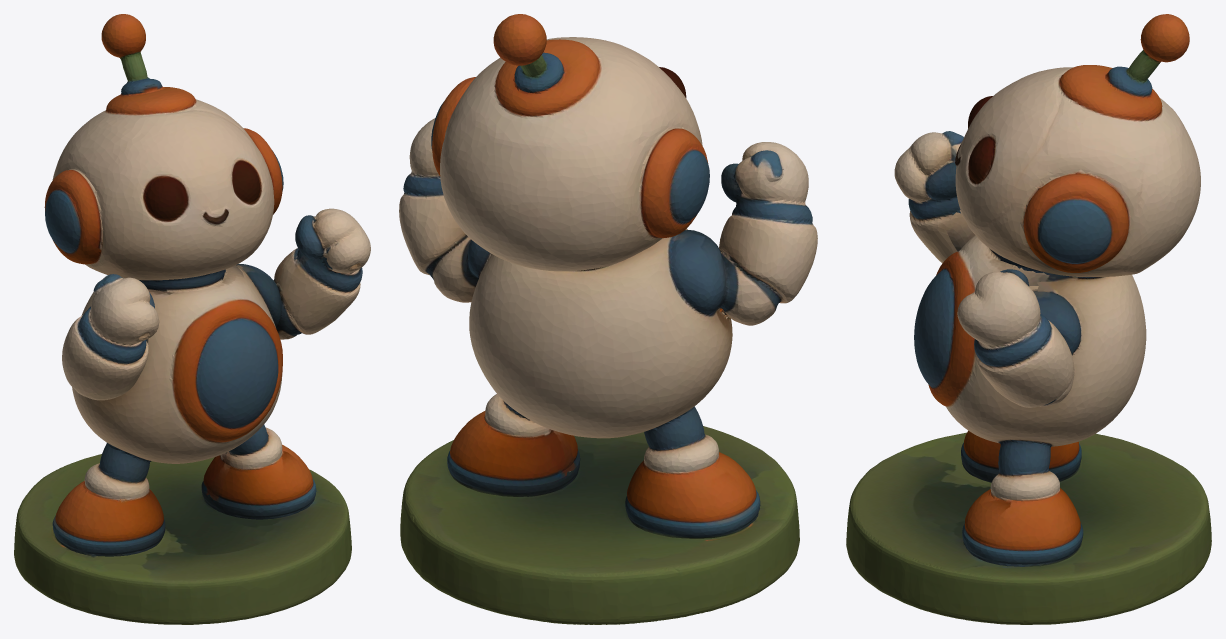
The model's file is marker-robot.glb.
3 views of the same model, side by side, from view 1: azimuth 30°, elevation 25°; view 2: azimuth 150°, elevation 25°; view 3: azimuth 270°, elevation 25° (orthographic). The views are drawn at different scales.
Parts seen in each view (by area): view 1: textured_mesh.obj; view 2: textured_mesh.obj; view 3: textured_mesh.obj.
Part boxes in pixels (<box>): textured_mesh.obj: <box>14,14,370,624</box>; textured_mesh.obj: <box>399,14,817,624</box>; textured_mesh.obj: <box>846,14,1211,624</box>.
Bounding box in the file's own units: 1.33 × 1.99 × 1.23.
1 material, 1 textured.
